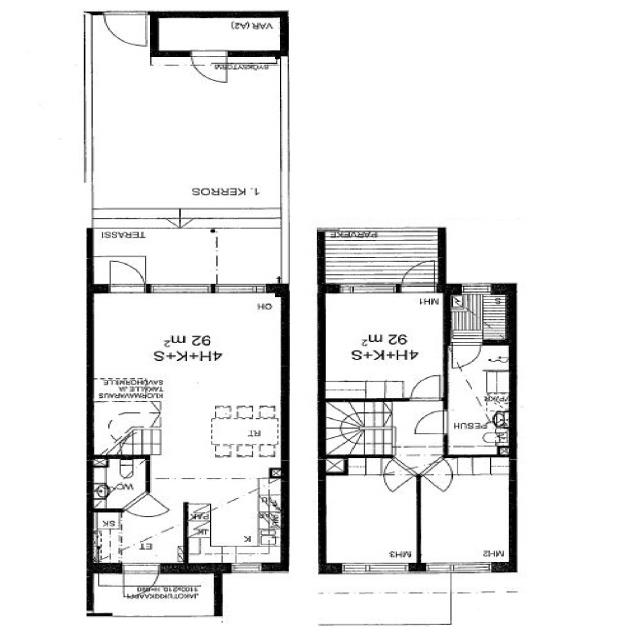door: (101, 8, 151, 49), (188, 50, 232, 86), (120, 563, 161, 598), (398, 258, 439, 292), (105, 258, 146, 291), (409, 408, 453, 438), (446, 336, 484, 370), (132, 489, 175, 519), (405, 372, 447, 402), (381, 467, 416, 496), (122, 492, 157, 519), (424, 461, 452, 493)
window: (334, 560, 414, 578), (422, 560, 497, 577), (332, 280, 400, 298), (146, 282, 217, 296), (211, 281, 270, 295), (226, 560, 268, 576), (457, 283, 495, 296)
zone: (91, 290, 287, 478), (321, 288, 447, 400), (416, 463, 514, 569), (184, 474, 283, 568), (323, 474, 418, 568), (446, 343, 510, 457), (150, 16, 288, 54), (93, 512, 182, 562), (447, 289, 513, 343), (90, 456, 148, 508)
